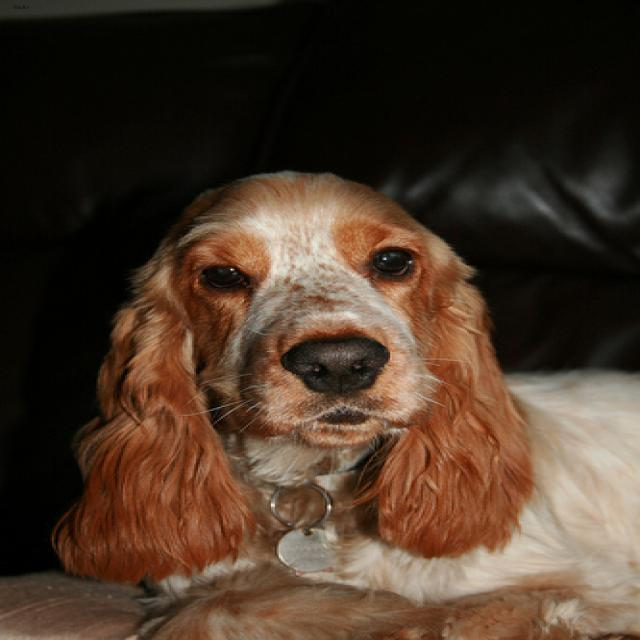dog: (56, 171, 528, 580)
